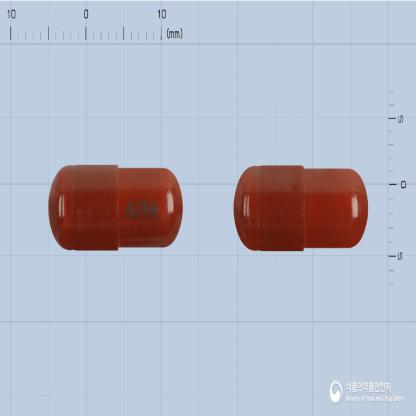pill: (233, 164, 369, 253), (47, 163, 183, 251)
